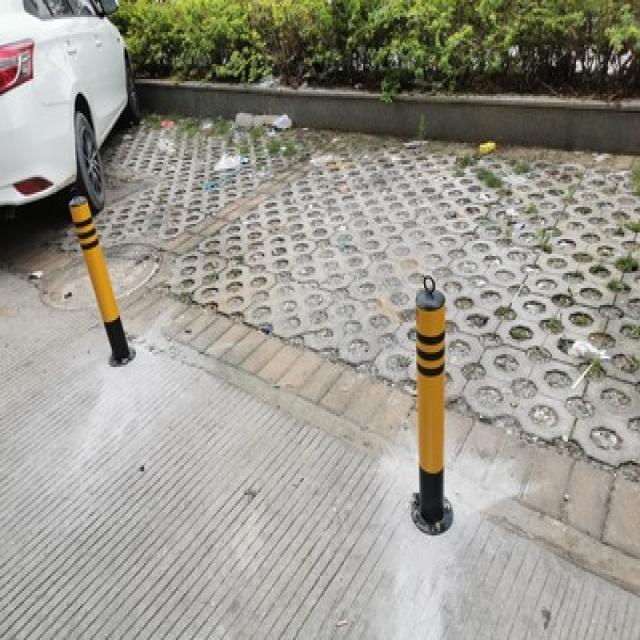car: (0, 0, 138, 211)
warning_column: (406, 273, 454, 531), (67, 192, 133, 367)
